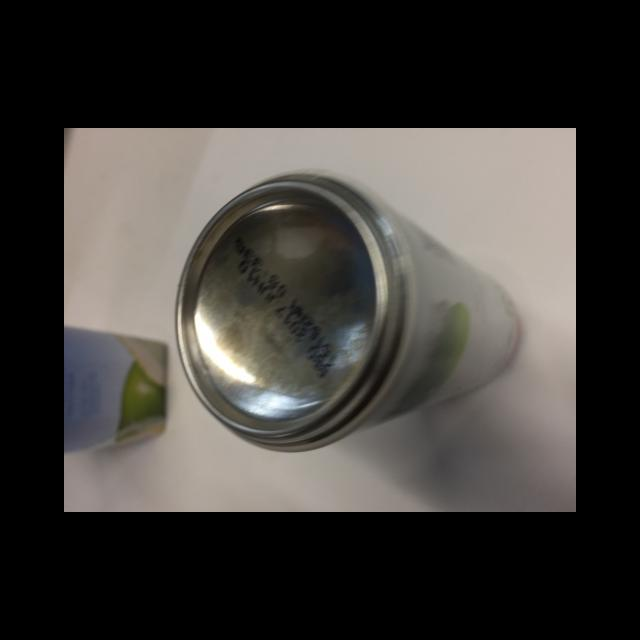metal: (172, 171, 521, 451)
